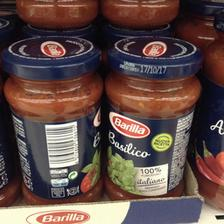Tomatensauce: (2, 34, 102, 204), (104, 35, 201, 198)
